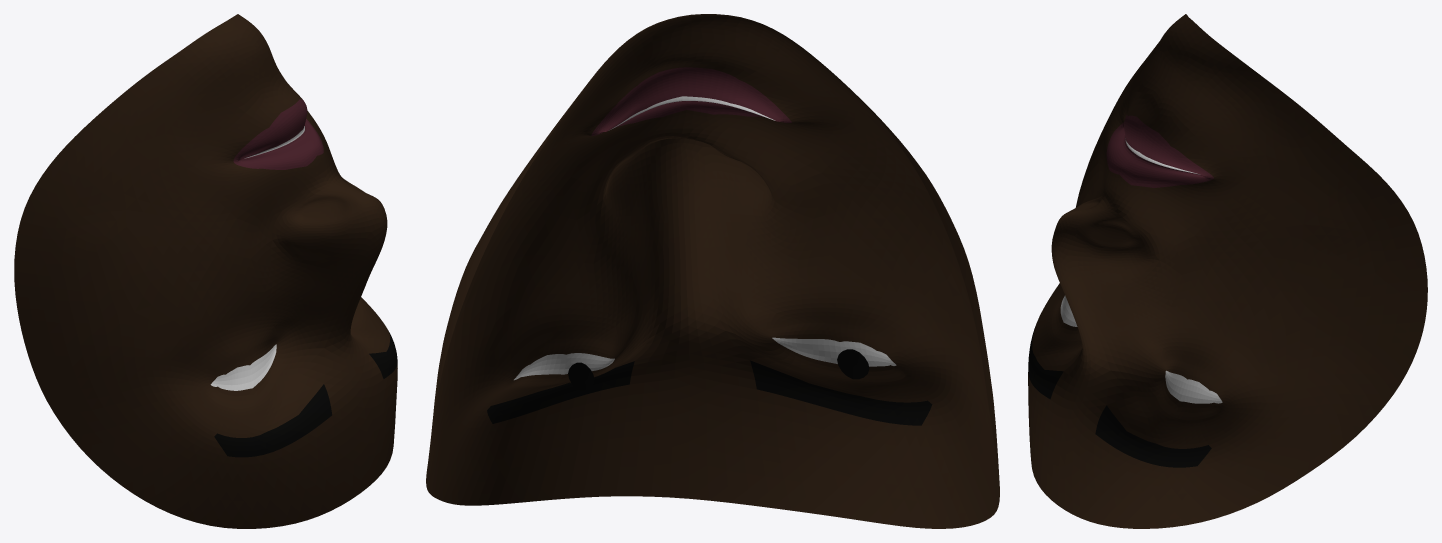
File: VID-20250515-WA0004_f_00178.obj
3 views of the same model, side by side, from view 1: azimuth 30°, elevation 25°; view 2: azimuth 150°, elevation 25°; view 3: azimuth 270°, elevation 25° (orthographic). The views are drawn at different scales.
Visible parts, largest first — view 1: face_mesh_subdivided; view 2: face_mesh_subdivided; view 3: face_mesh_subdivided.
Boxes of the visible parts, left/top/right/bottom form: face_mesh_subdivided: left=14, top=14, right=397, bottom=528; face_mesh_subdivided: left=426, top=14, right=999, bottom=528; face_mesh_subdivided: left=1028, top=14, right=1427, bottom=528.
Size of the model in its own units: 0.4613 by 0.5196 by 0.4241.
